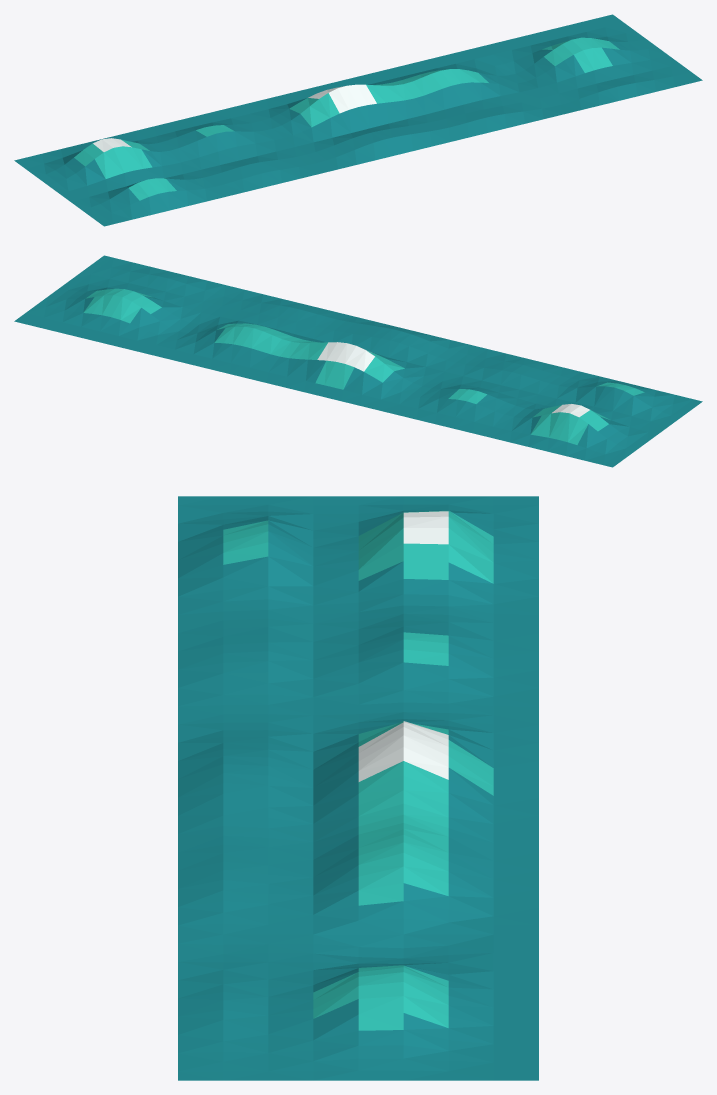
Rendered from W2_Far_WaveWall.fbx.
The picture shows the model from 3 angles, top to bottom: view 1: azimuth 30°, elevation 25°; view 2: azimuth 150°, elevation 25°; view 3: azimuth 270°, elevation 25°; orthographic projection. The views are drawn at different scales.
Visible parts, largest first — view 1: W2_Far_WaveWall; view 2: W2_Far_WaveWall; view 3: W2_Far_WaveWall.
Part boxes in pixels (box(x1,y1,x2,y2)): W2_Far_WaveWall: box(14, 14, 702, 226); W2_Far_WaveWall: box(14, 255, 702, 467); W2_Far_WaveWall: box(178, 496, 538, 1080).
Size of the model in its own units: 460 by 21.52 by 120.
